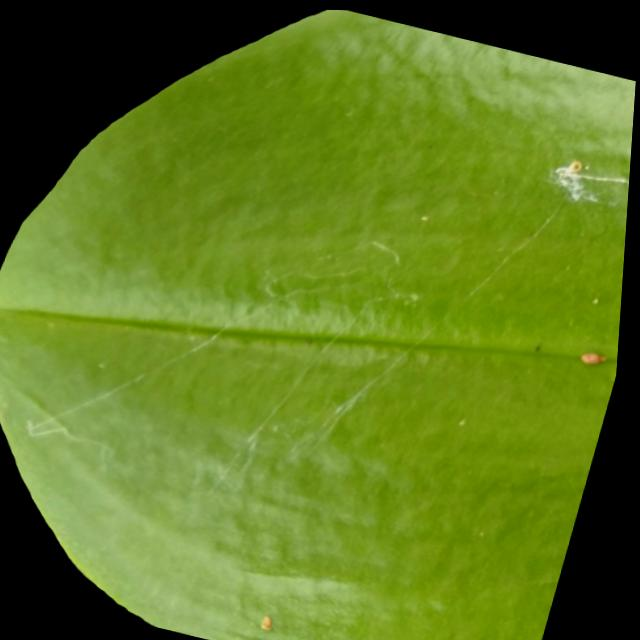mite: (501, 142, 632, 371), (530, 327, 615, 370), (259, 603, 291, 635), (587, 283, 611, 307), (582, 343, 610, 363), (265, 609, 285, 630), (532, 334, 551, 353), (418, 205, 437, 222), (592, 289, 606, 302), (481, 522, 495, 535), (420, 208, 434, 220), (535, 338, 548, 349)
spots: (0, 2, 637, 640)
